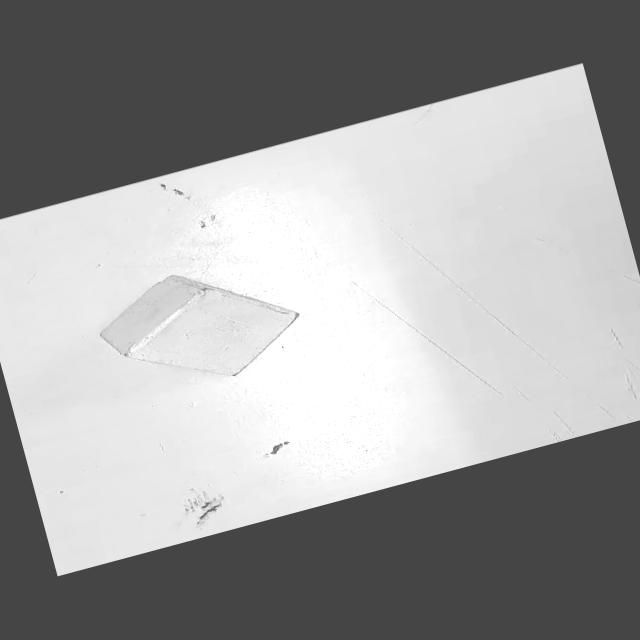ytriangle: (84, 245, 314, 409)
